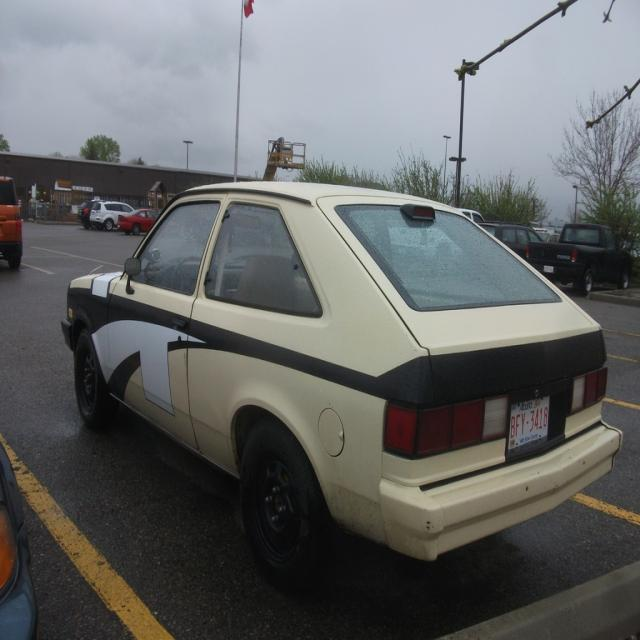car: (58, 181, 623, 590)
